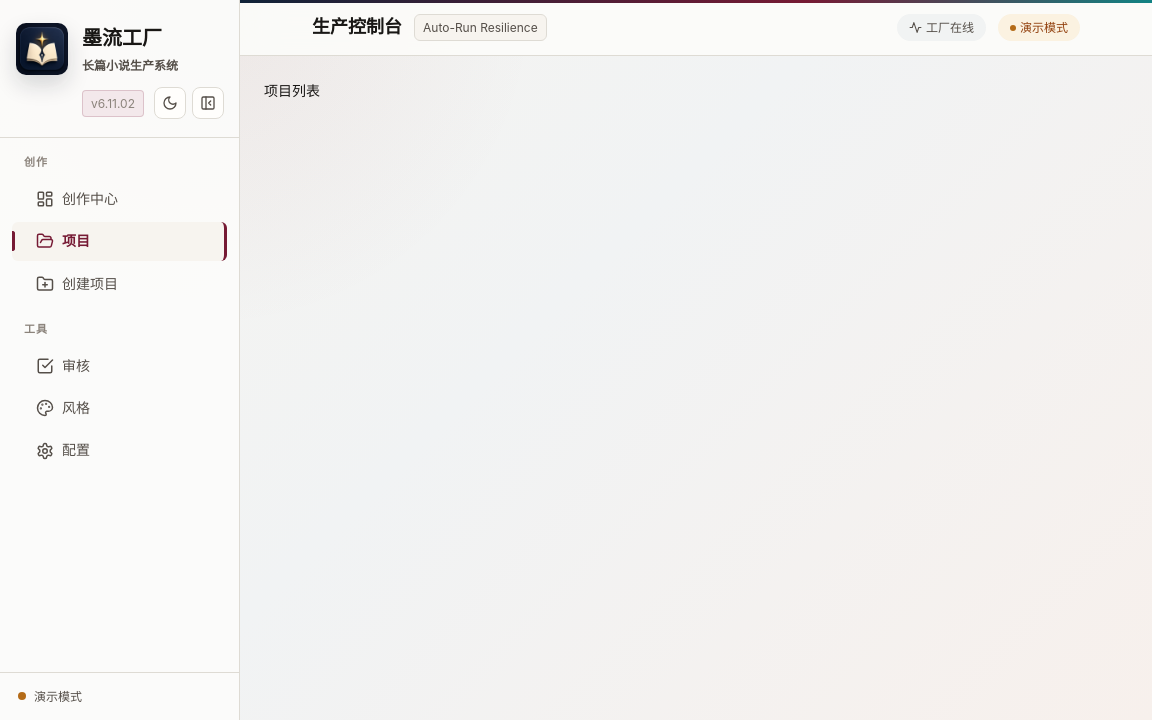
Test case: Layout › collapses and expands the desktop sidebar
Click the button named "收起主菜单": (208,103) x1=192 y1=87 x2=224 y2=119
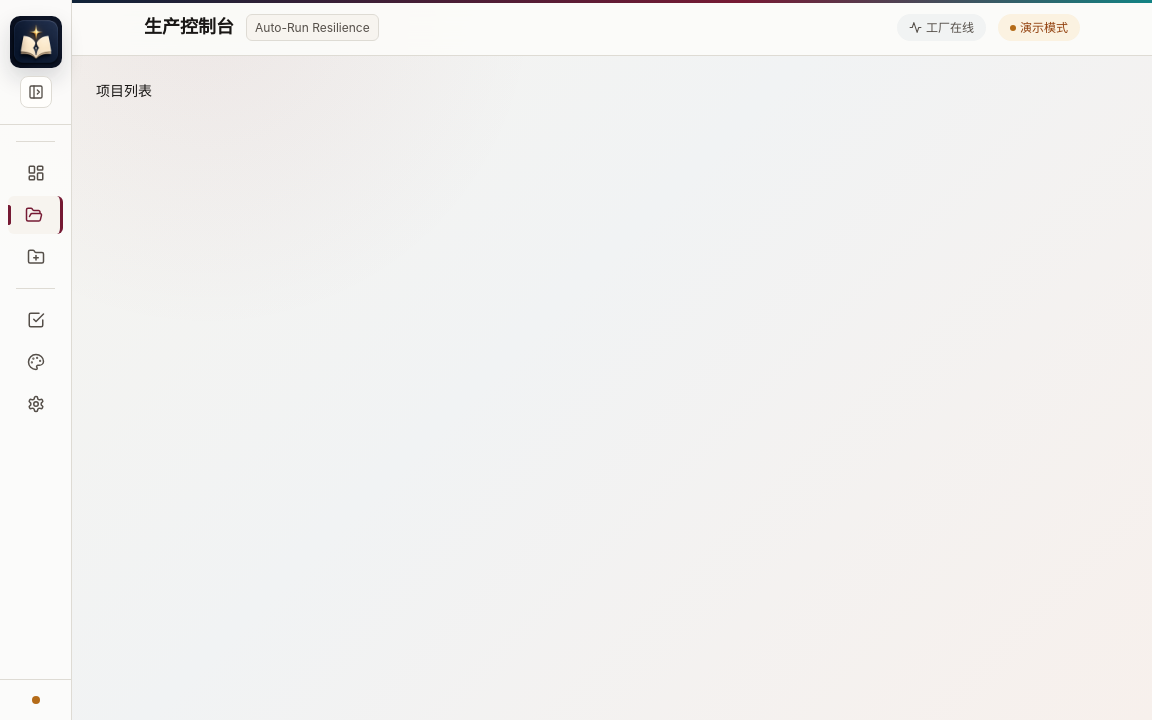
Expected: the button named "展开主菜单" is collapsed
Click the button named "展开主菜单": (36,92) x1=20 y1=76 x2=52 y2=108
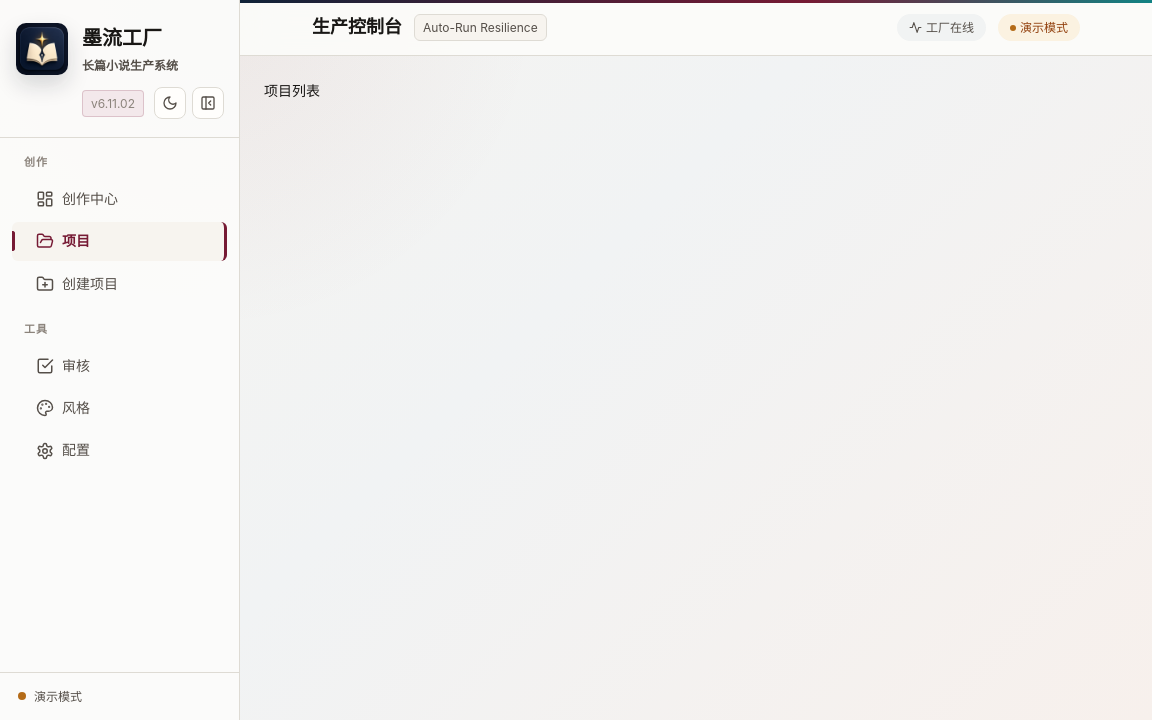
Expected: the button named "收起主菜单" is expanded, x1=192 y1=87 x2=224 y2=119
